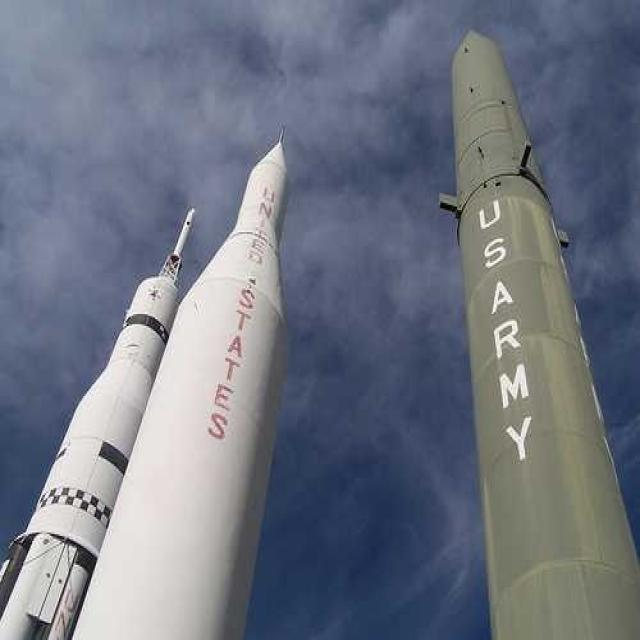missile: (438, 29, 638, 640), (75, 121, 288, 640), (0, 205, 192, 638)
